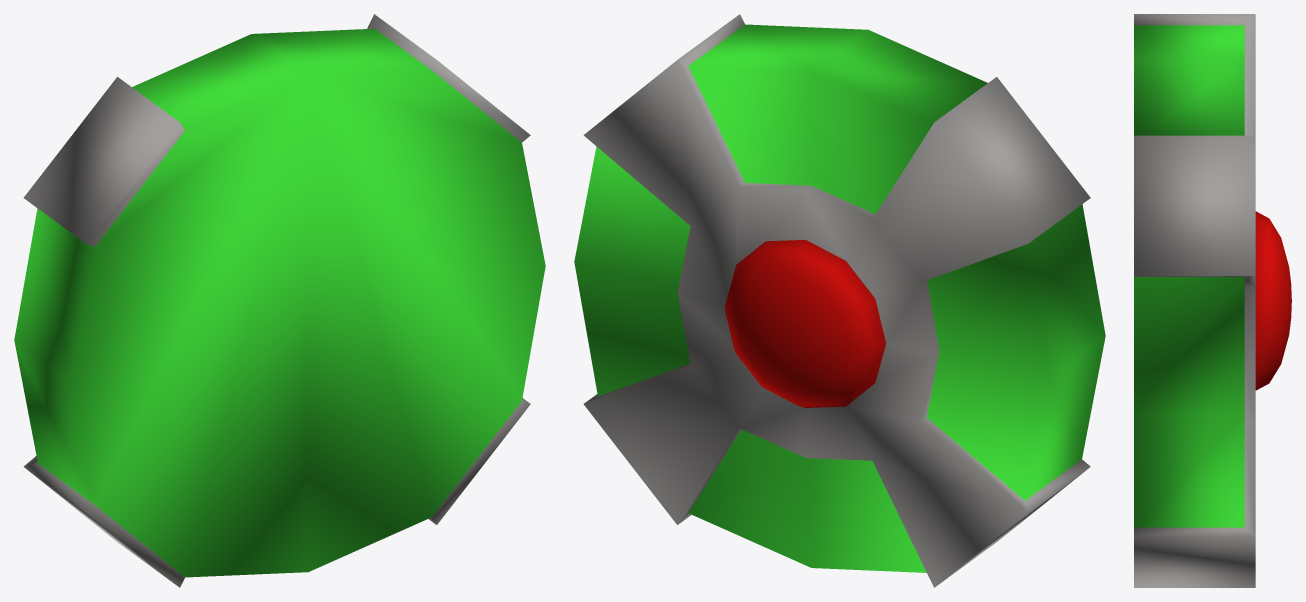
File: Landmine.fbx
3 views of the same model, side by side, from view 1: azimuth 30°, elevation 25°; view 2: azimuth 150°, elevation 25°; view 3: azimuth 270°, elevation 25° (orthographic). The views are drawn at different scales.
Visible parts, largest first — view 1: LP_Landmine; view 2: LP_Landmine; view 3: LP_Landmine.
Part boxes in pixels (box(x1,y1,x2,y2)): LP_Landmine: box(14, 14, 545, 587); LP_Landmine: box(574, 14, 1105, 587); LP_Landmine: box(1134, 14, 1291, 587).
Size of the model in its own units: 0.481 by 0.481 by 0.1426.
